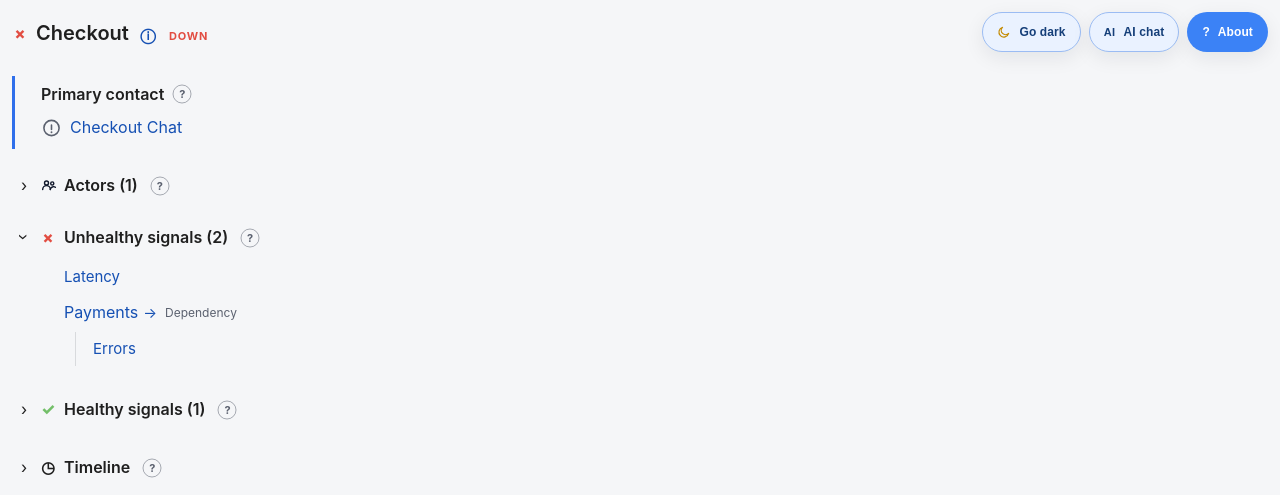
Test: DetailsPanel contextual help › shows catalog short description in the item information tooltip
Hover over the button named "Catalog information for Checkout".
mouse_move(148, 34)  # box [135,22,161,48]
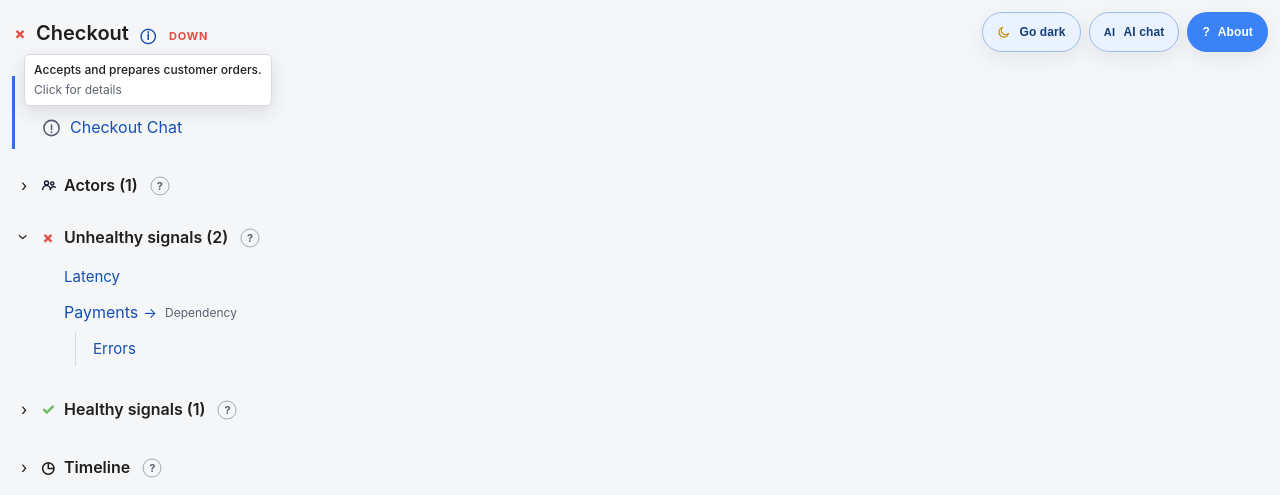
Expected: the tooltip reads "Accepts and prepares customer orders. Click for details", [24,54,272,106]
